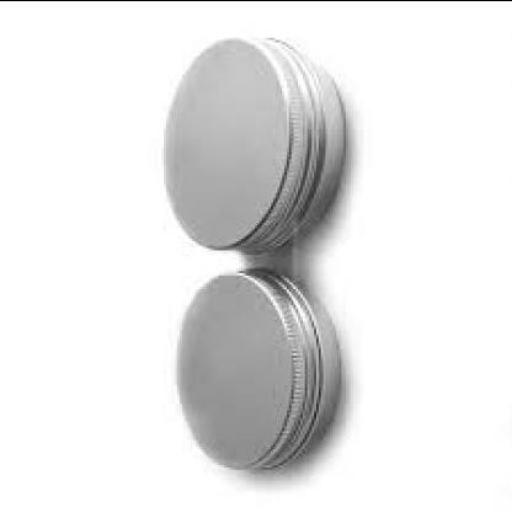metal: (162, 42, 348, 253), (176, 267, 342, 471)
